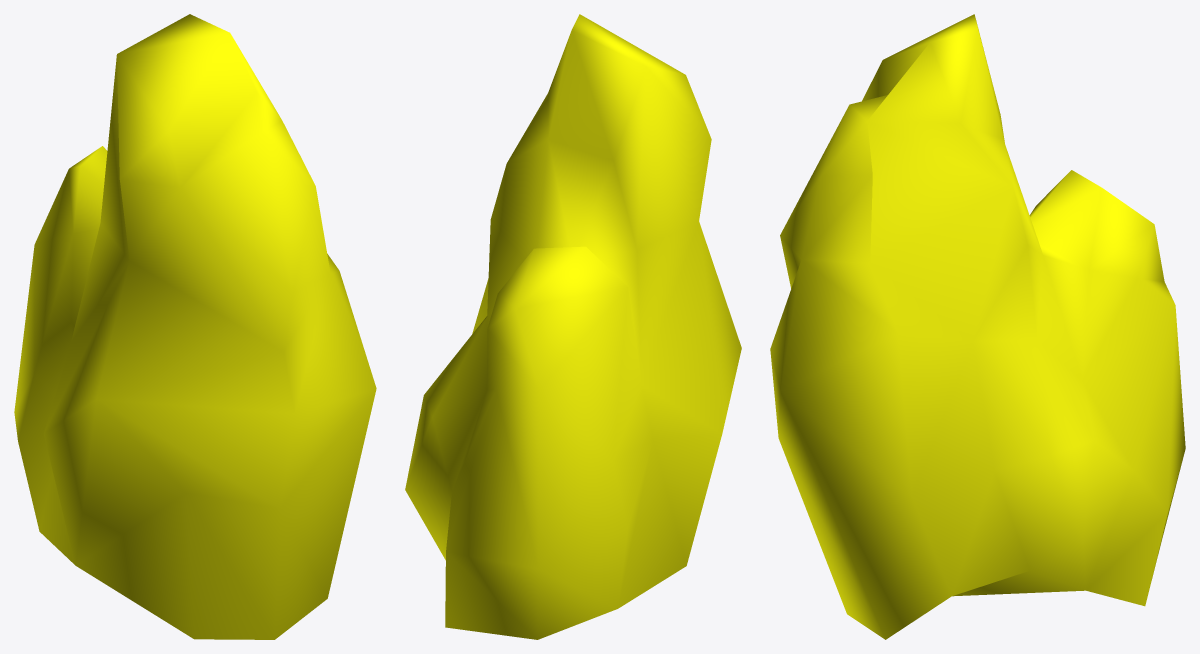
File: rock_pillar_00_lod_01.glb
3 renders of one model, left to right at view 1: azimuth 30°, elevation 25°; view 2: azimuth 150°, elevation 25°; view 3: azimuth 270°, elevation 25°, orthographic. The views are drawn at different scales.
Parts seen in each view (by area): view 1: rock_pillar_00; view 2: rock_pillar_00; view 3: rock_pillar_00.
Part boxes in pixels (x1,y1,x2,y2): rock_pillar_00: (14, 14, 376, 639); rock_pillar_00: (405, 14, 741, 639); rock_pillar_00: (770, 14, 1185, 639).
Size of the model in its own units: 24.72 by 46.66 by 30.53.
1 material, 1 textured.
